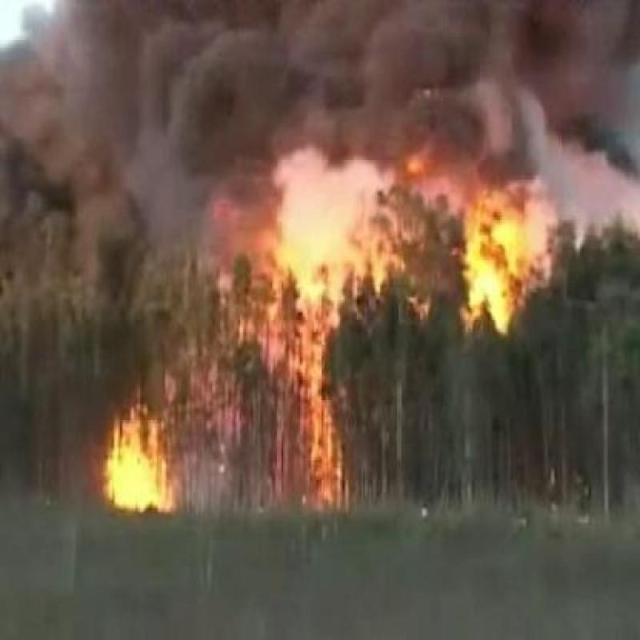Fire: (252, 300, 352, 514), (71, 368, 184, 510), (412, 225, 530, 328)
